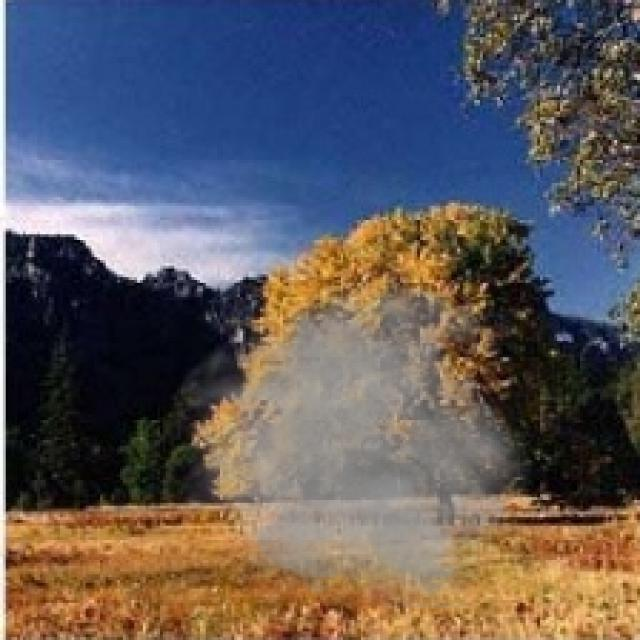smoke: (172, 254, 537, 609)
